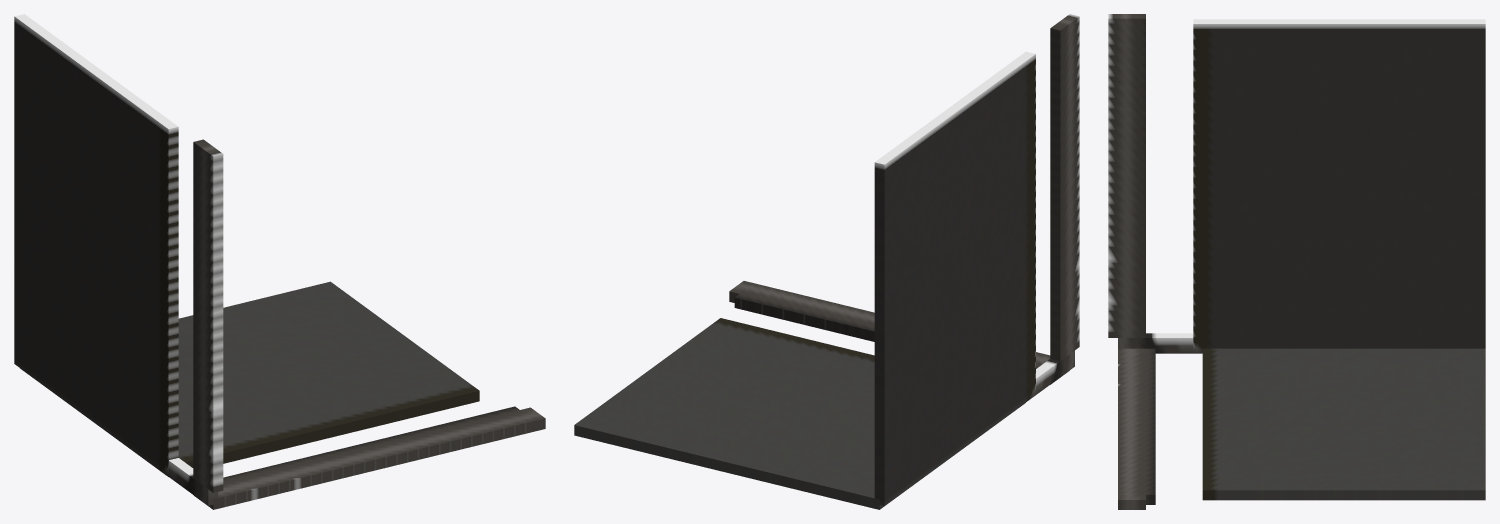
File: rail.obj
3 renders of one model, left to right at view 1: azimuth 30°, elevation 25°; view 2: azimuth 150°, elevation 25°; view 3: azimuth 270°, elevation 25°, orthographic. The views are drawn at different scales.
Bounding box in the file's own units: 0.9994 × 1.01 × 1.02.
